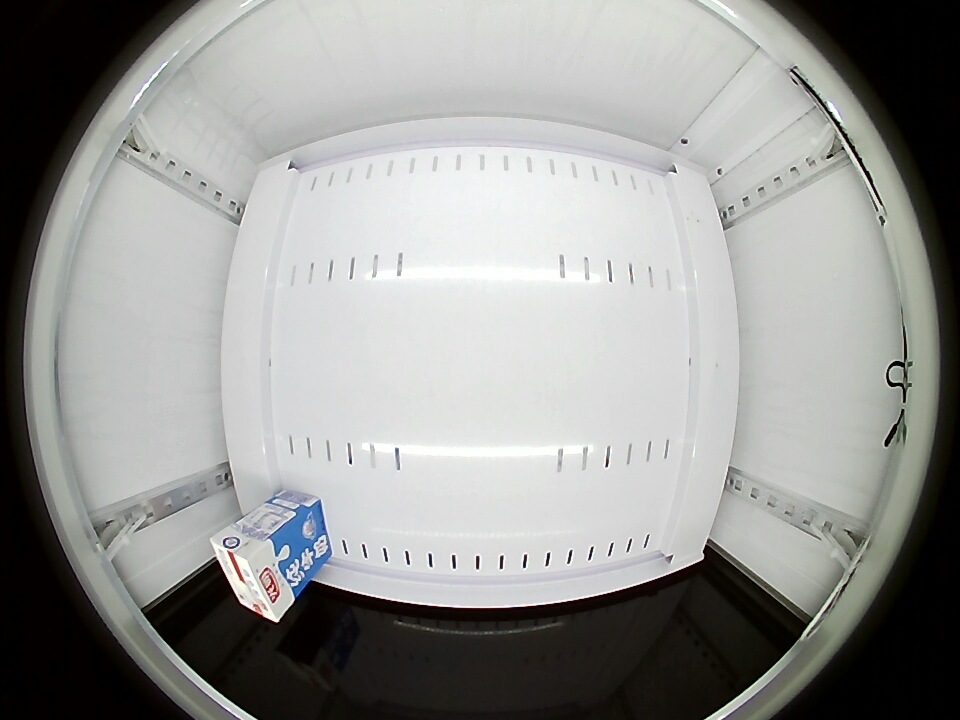niunai: (209, 521, 298, 623)
